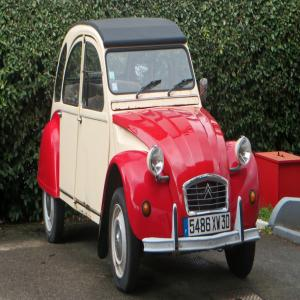Vehicle-registration-plate: (184, 213, 231, 238)
